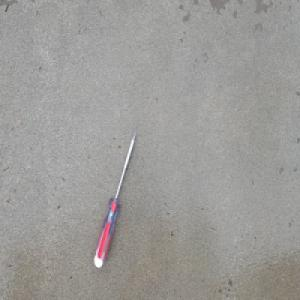Screwdriver: (93, 129, 138, 269)
